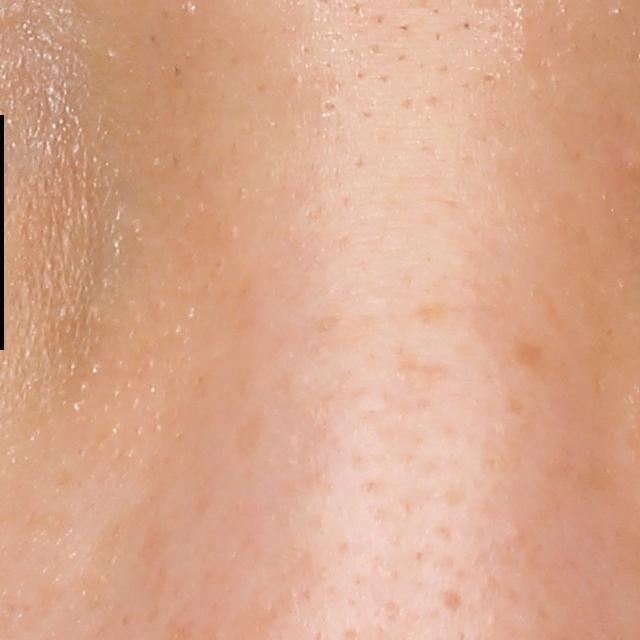atrophic_scar: (440, 587, 463, 617)
comedo: (315, 94, 346, 119)
melasma: (512, 336, 545, 375), (411, 301, 448, 331)
